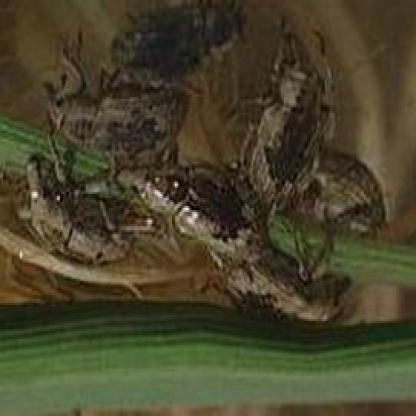rice-bug: (23, 1, 391, 331)
